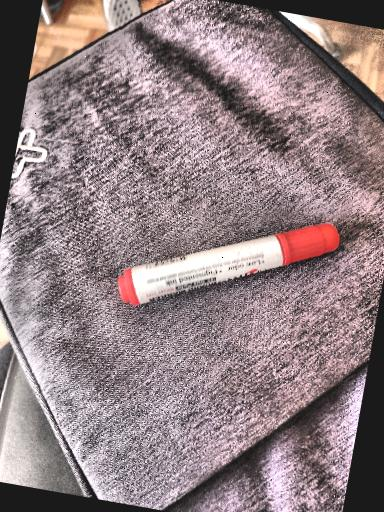marcador rojo: (117, 224, 338, 306)
